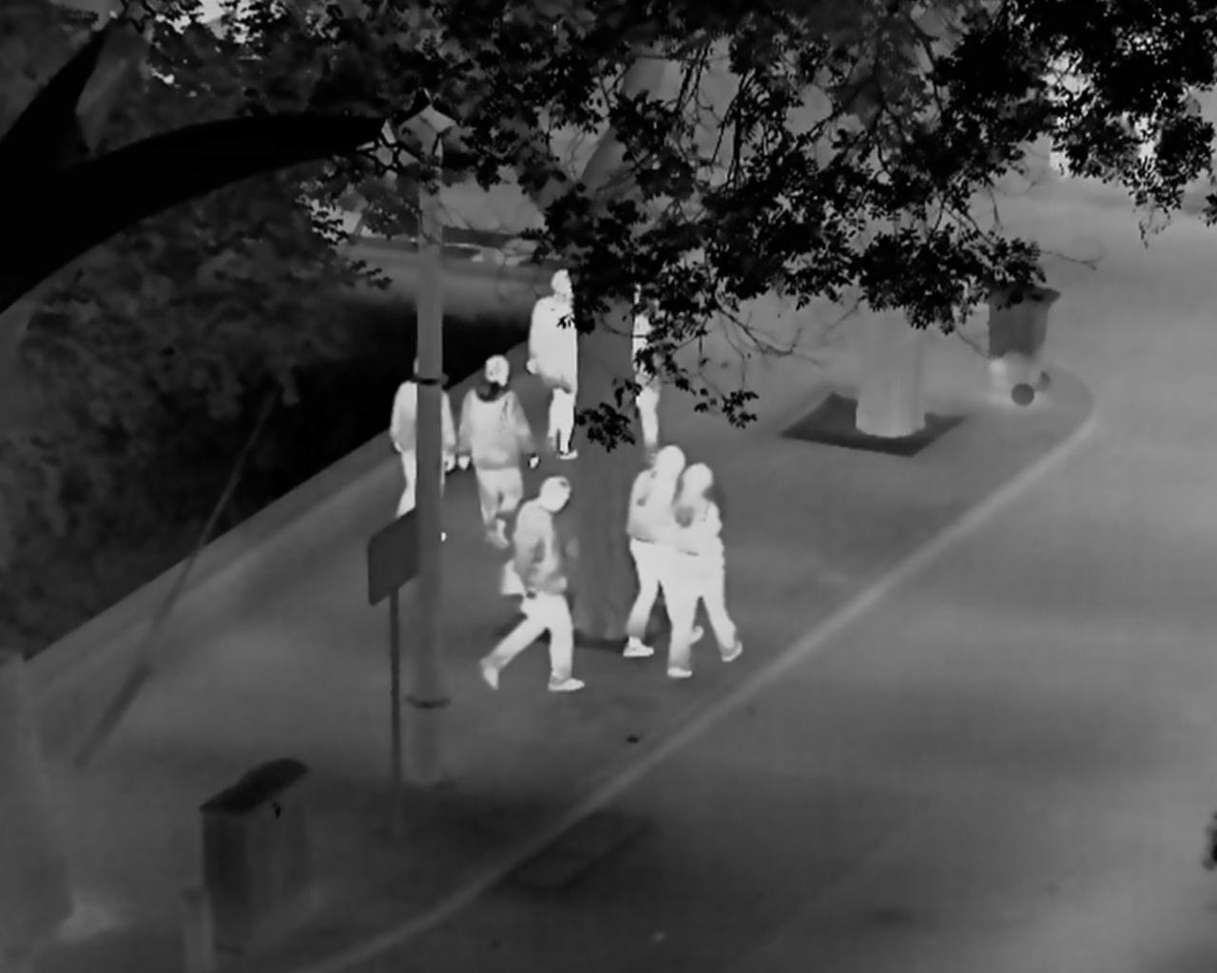person: (479, 475, 588, 692), (660, 464, 750, 677), (623, 446, 705, 658), (455, 353, 541, 549), (1114, 31, 1191, 198), (388, 354, 455, 544), (528, 277, 578, 461), (1040, 26, 1088, 176), (630, 280, 665, 466)
